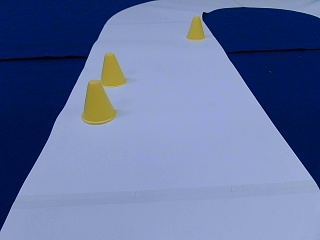cone: (82, 81, 116, 123), (100, 54, 126, 85), (186, 16, 205, 40)
